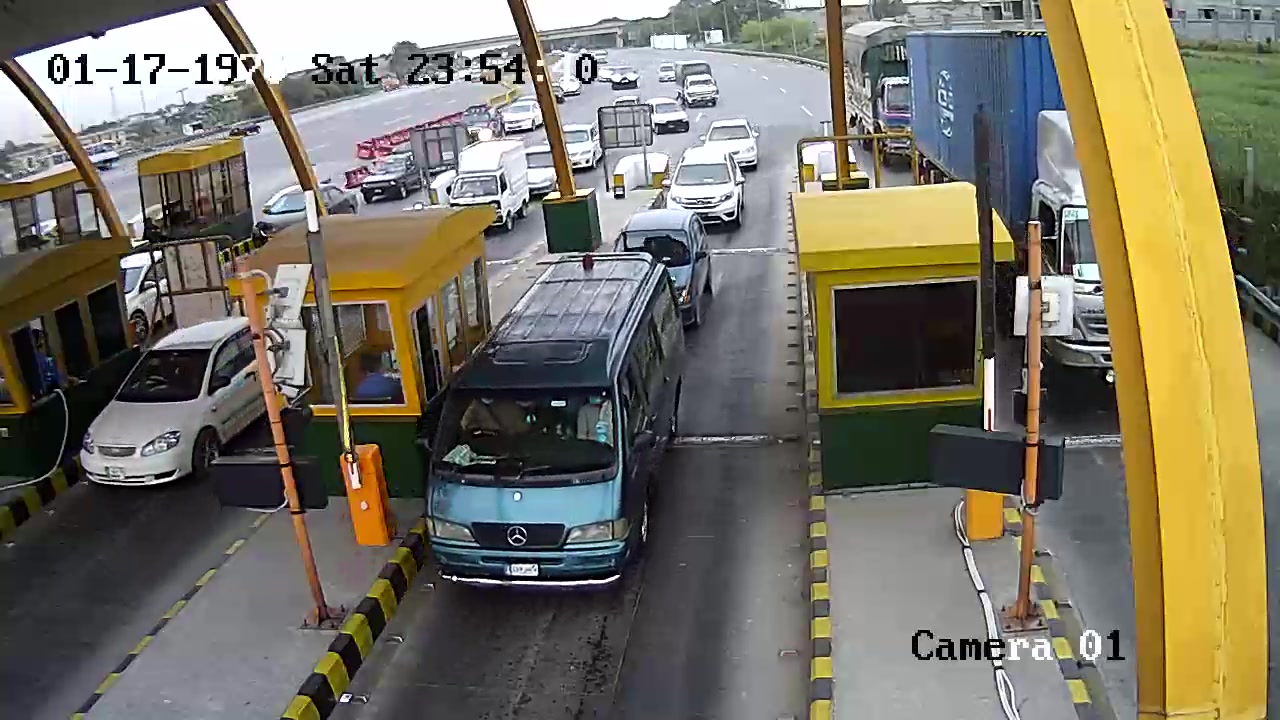F3: (428, 246, 688, 594)
